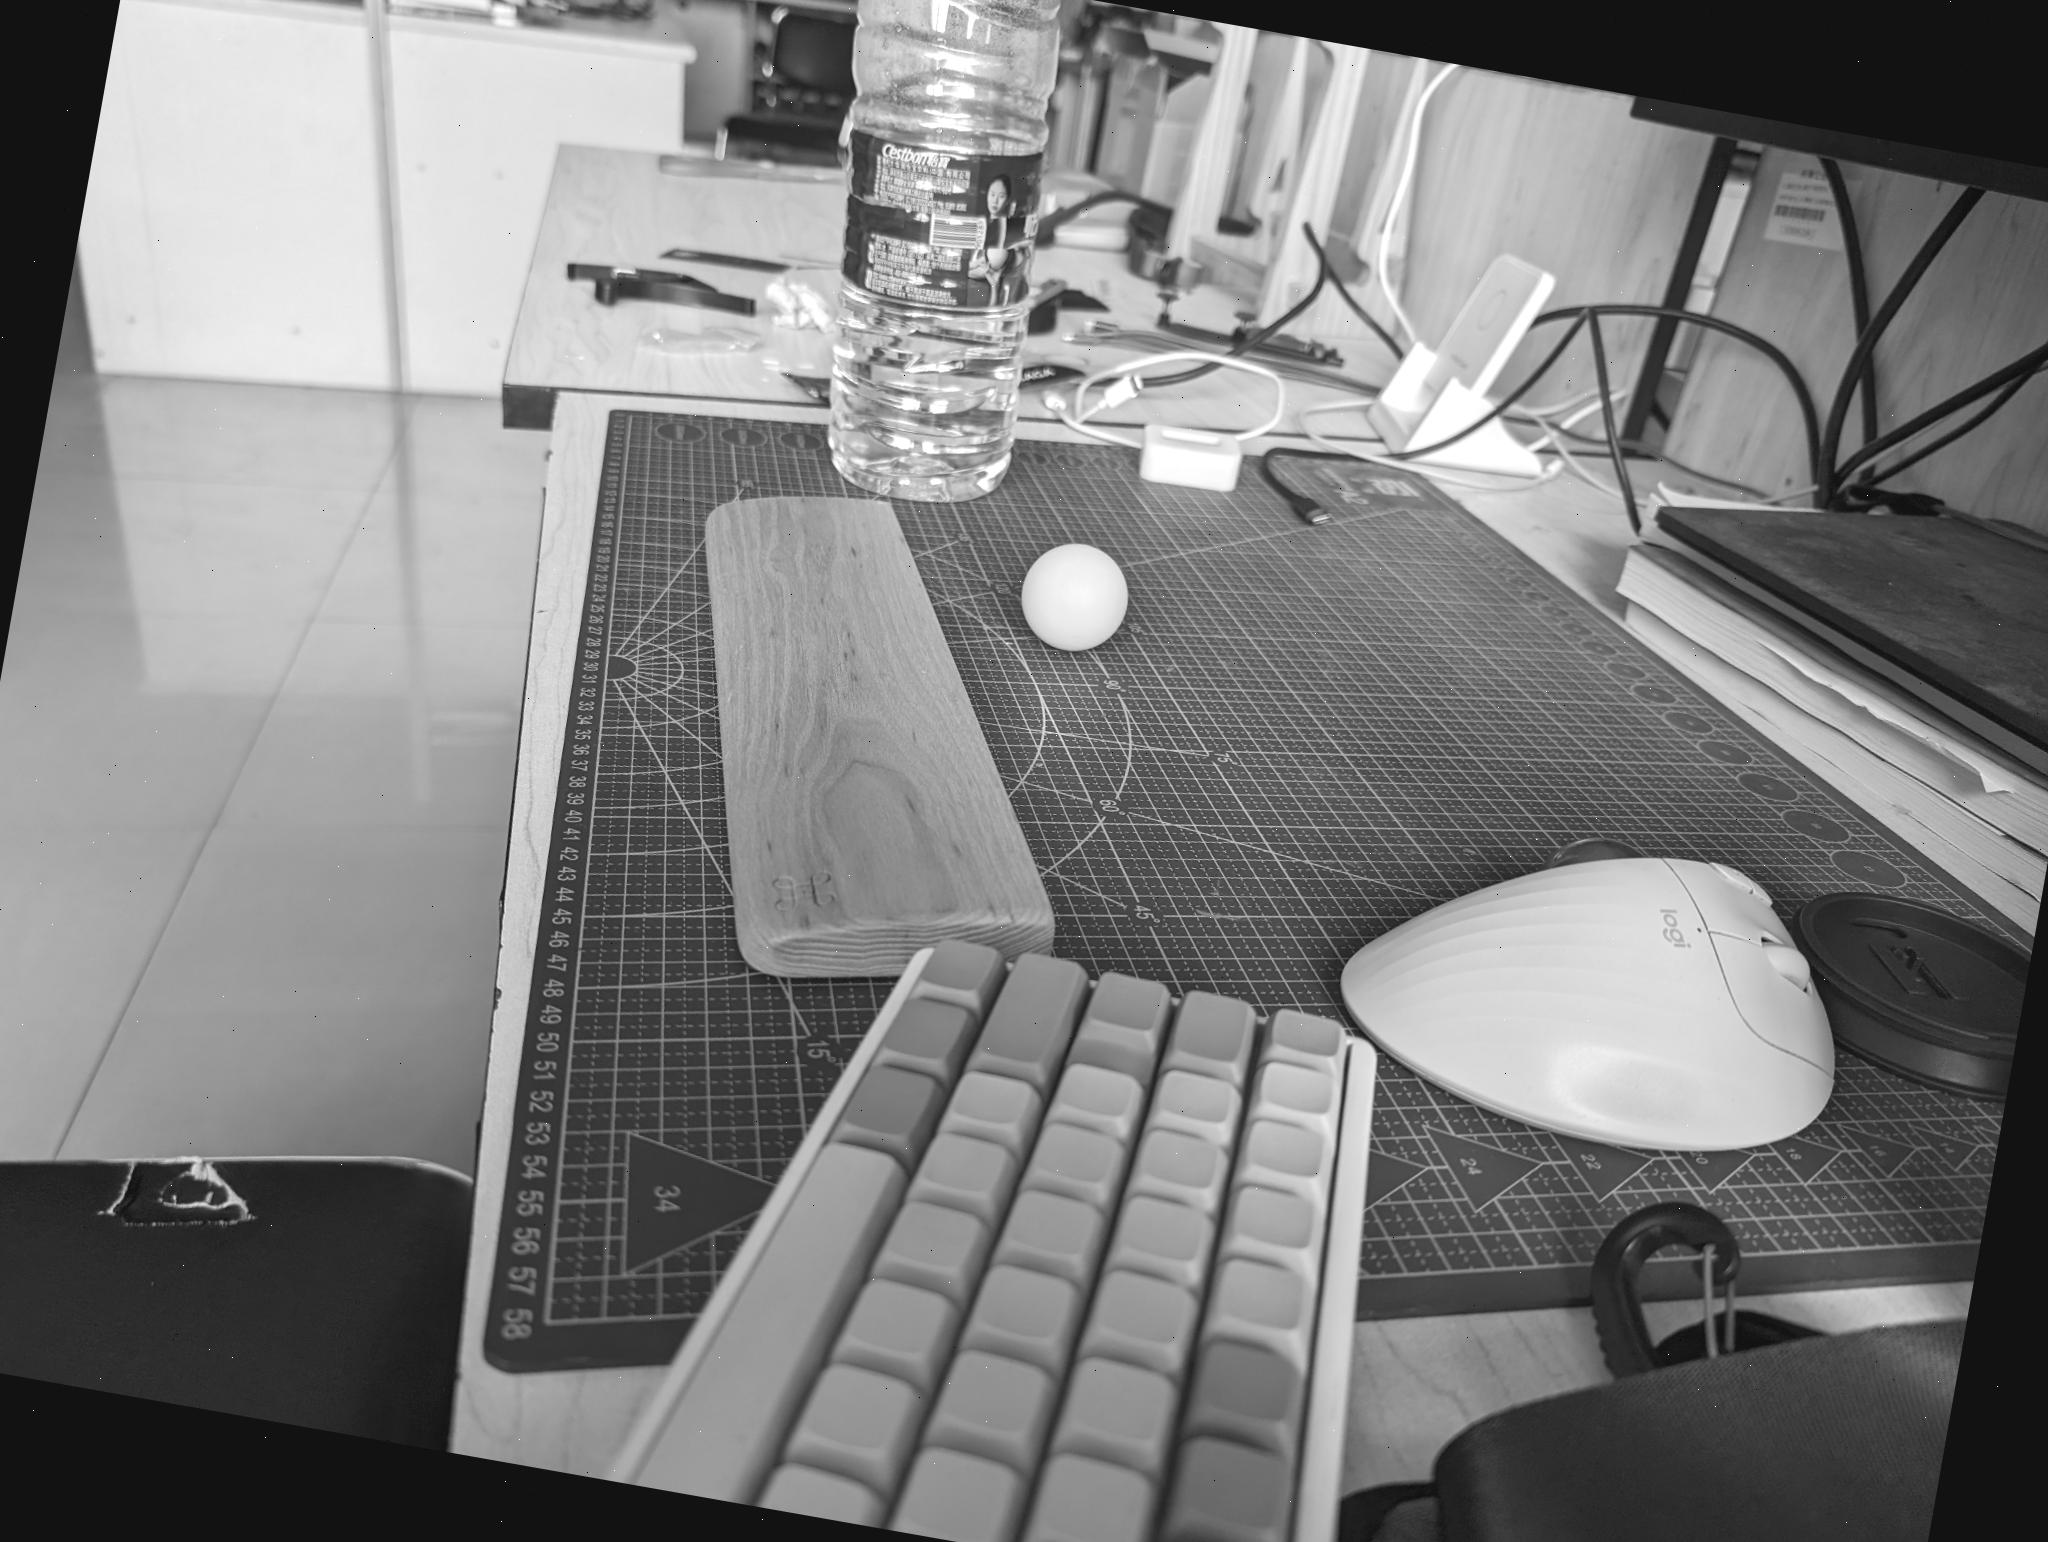ball: (1013, 531, 1138, 658)
